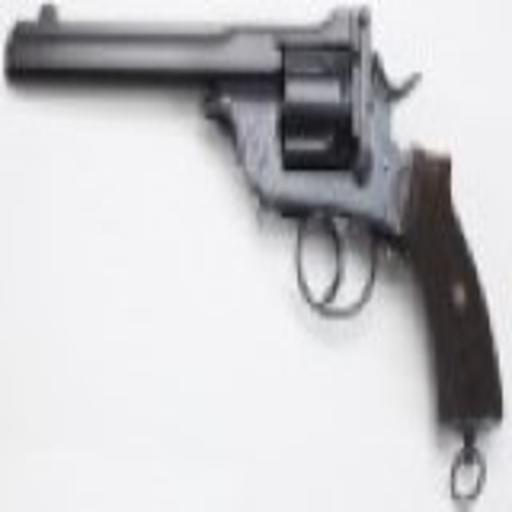Handgun: (5, 3, 511, 442)
